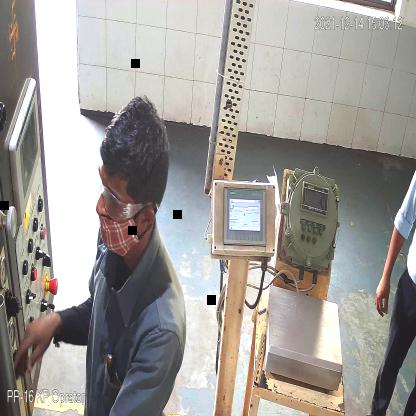goggles: (96, 177, 152, 220)
no_glove: (371, 222, 403, 320)
